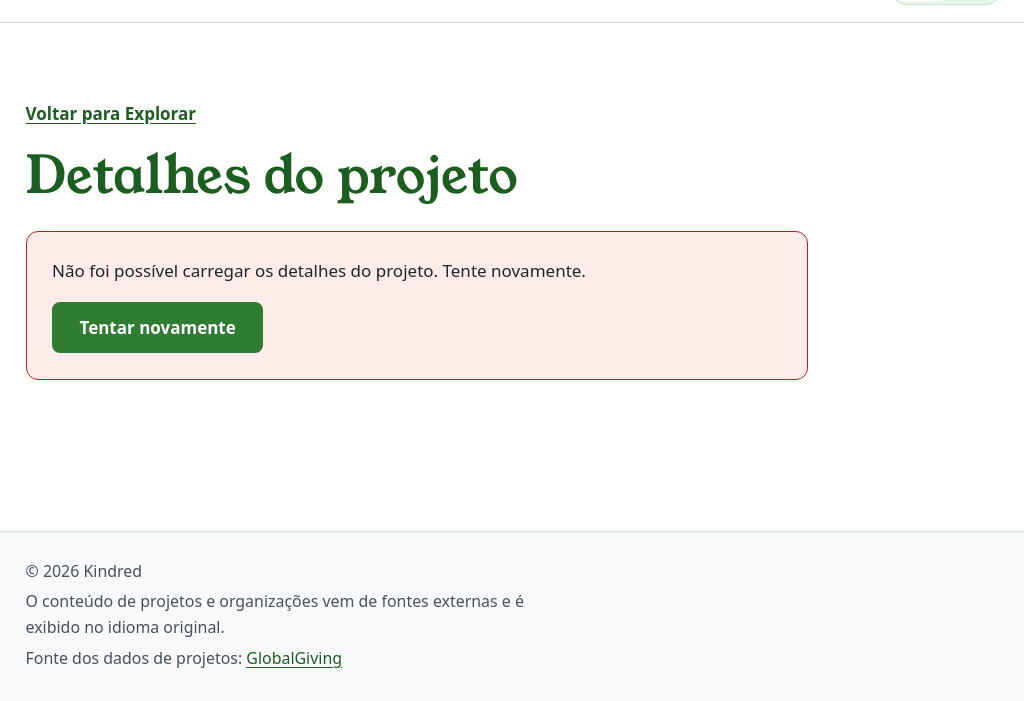
navegação › a página de projeto volta para Explorar
The image size is (1024, 701).
What coordinates should you click on to do the following:
click the link "Voltar para Explorar"
I would click on:
 (111, 114)
Its box is [26,102,196,125].
(page scrolled)
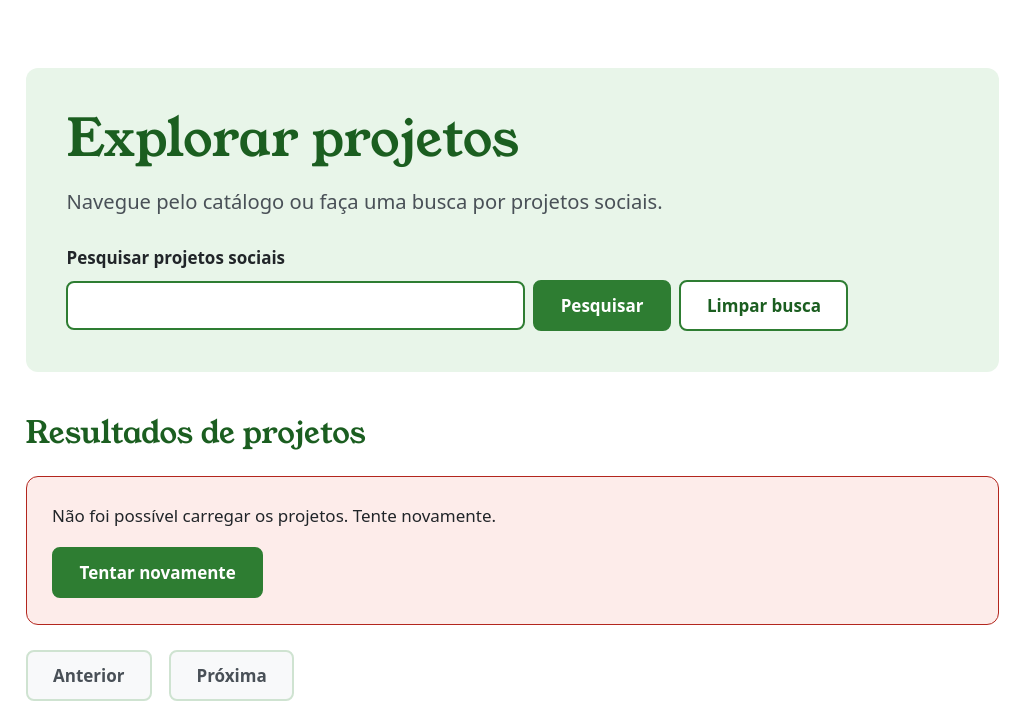
Result: the heading "Explorar projetos" is shown at [66,102,519,175]
